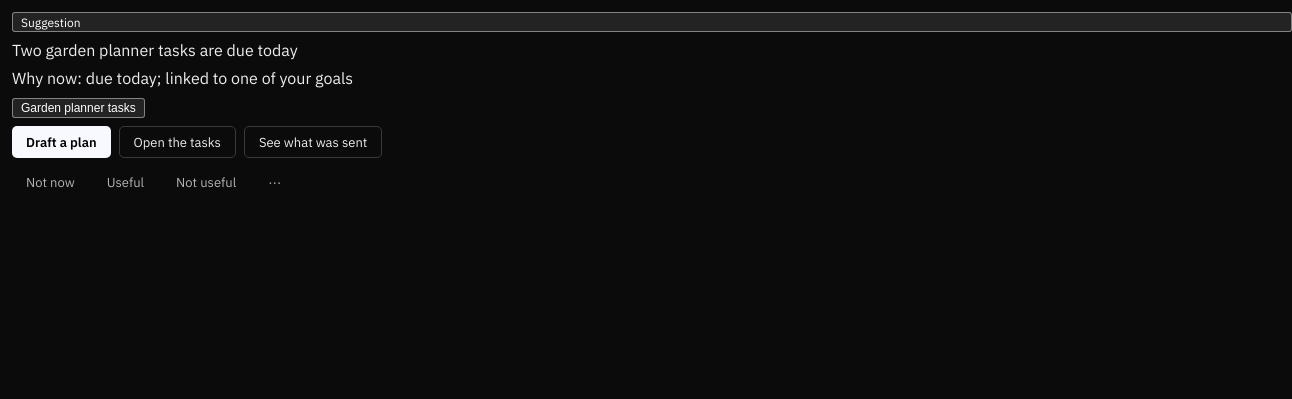
Scenario: the ⋯ menu › opens a role=menu of role=menuitem buttons: Stop these, then the four reasons, in order
Step 1. Click the button named "More" → (275, 182), box x1=254 y1=166 x2=295 y2=198
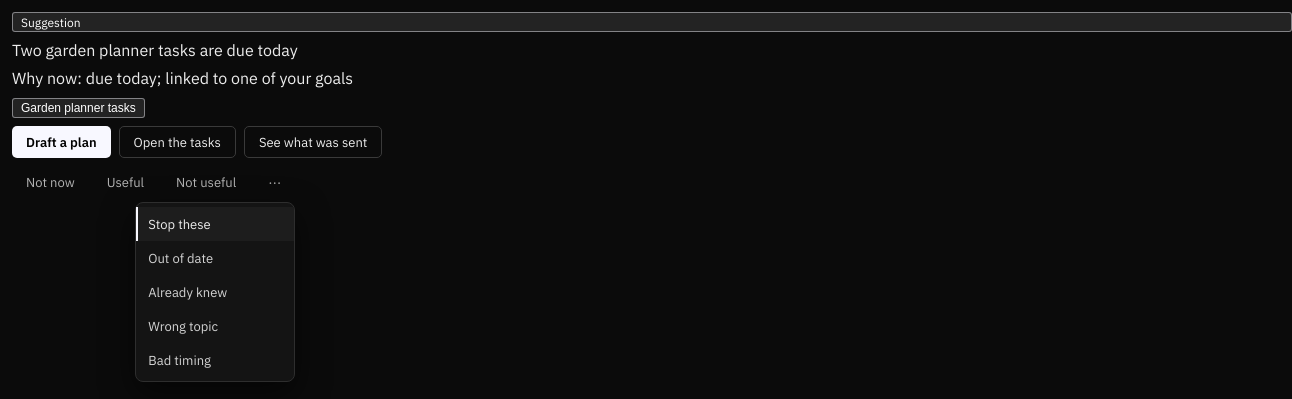
Expected: the menu items read "Stop these", "Out of date", "Already knew", "Wrong topic", "Bad timing", in this order, x1=136 y1=207 x2=294 y2=241; x1=136 y1=241 x2=294 y2=275; x1=136 y1=275 x2=294 y2=309; x1=136 y1=309 x2=294 y2=343; x1=136 y1=343 x2=294 y2=377
